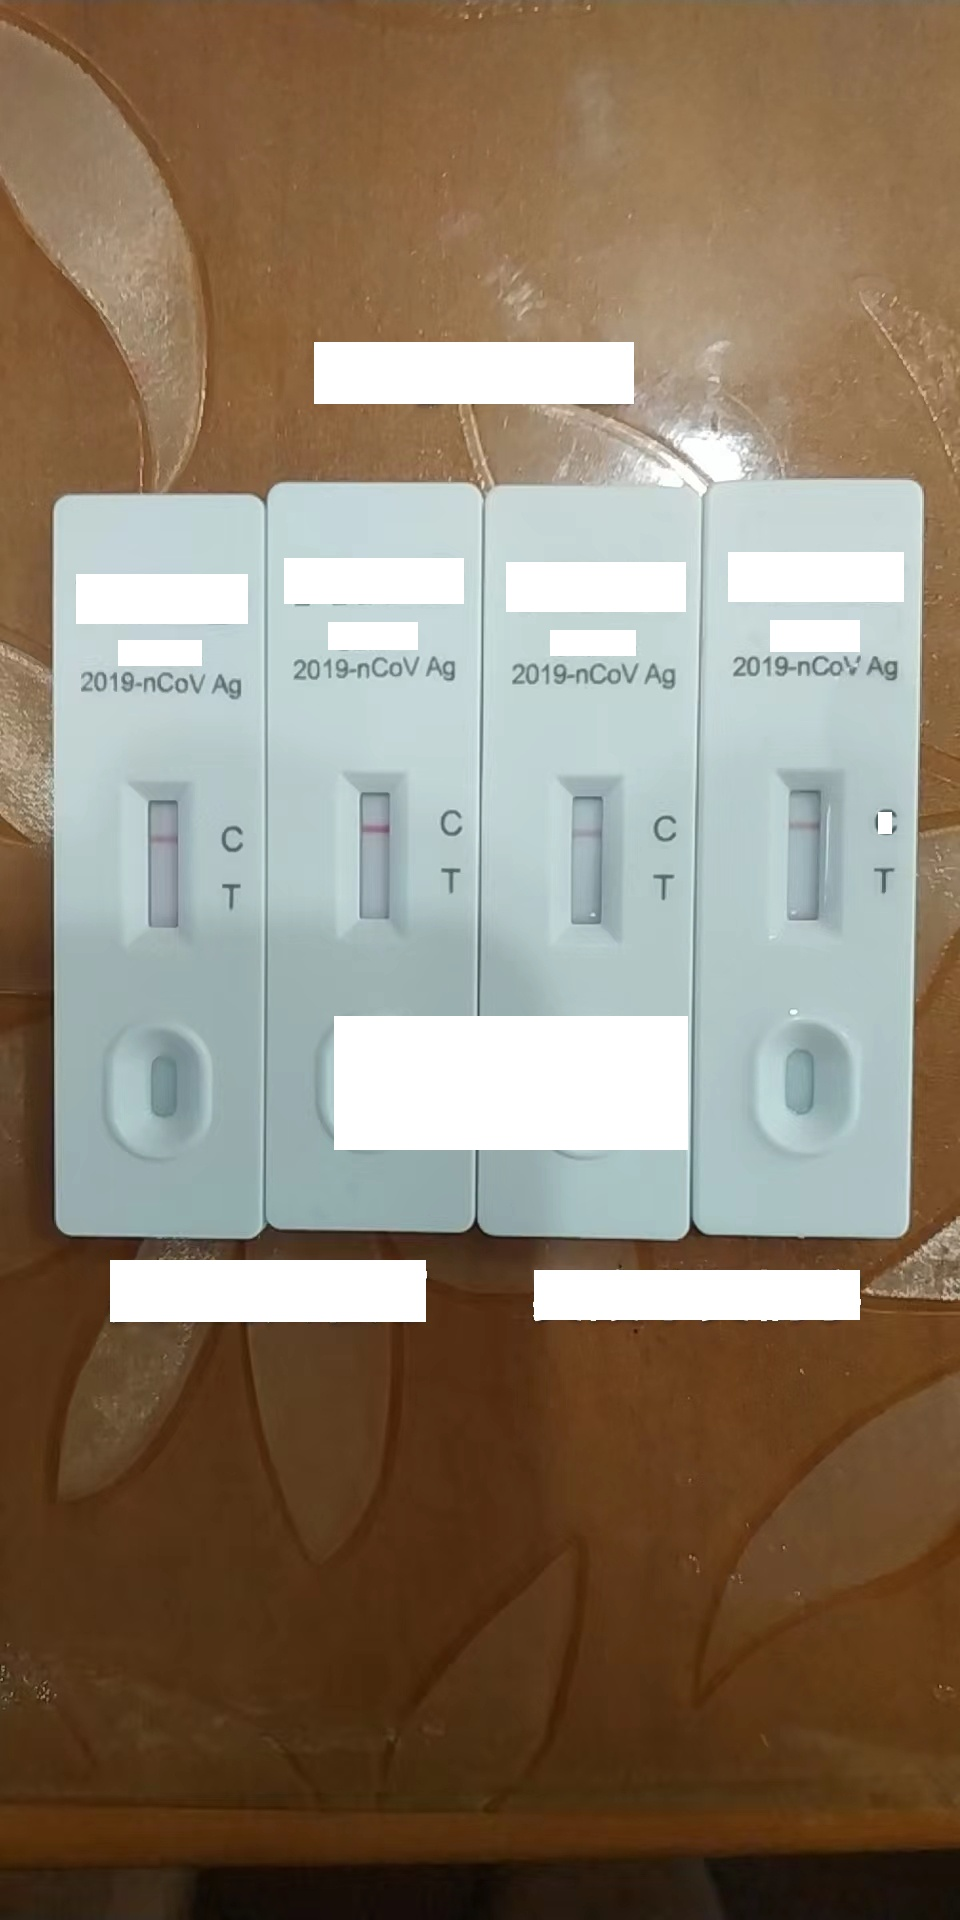negative: (337, 768, 414, 936), (771, 767, 844, 934), (122, 778, 198, 936), (553, 773, 623, 940)
